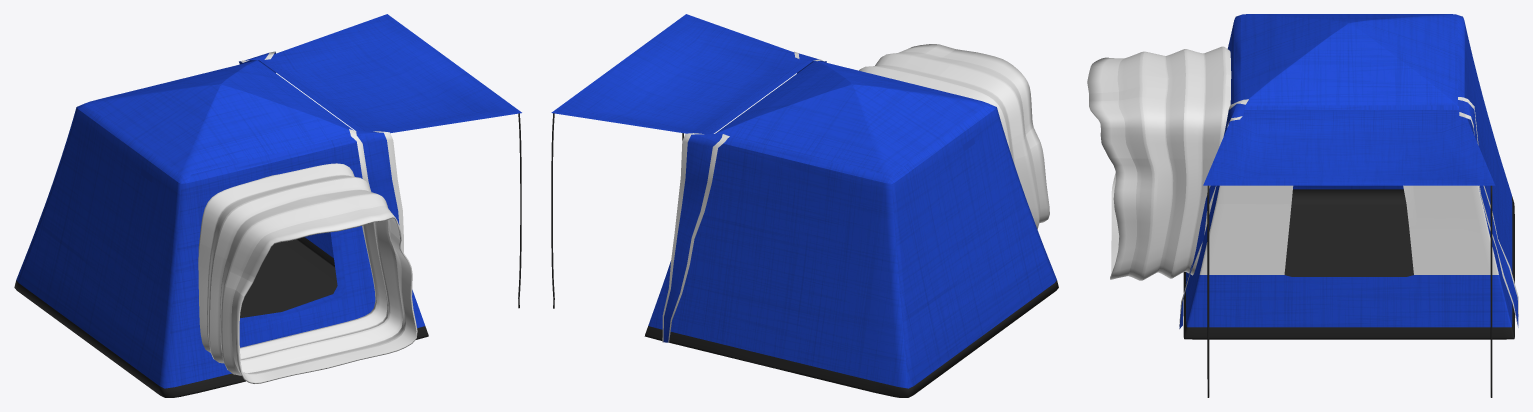
File: napier_suv_tent.glb
3 renders of one model, left to right at view 1: azimuth 30°, elevation 25°; view 2: azimuth 150°, elevation 25°; view 3: azimuth 270°, elevation 25°, orthographic. The views are drawn at different scales.
Parts seen in each view (by area): view 1: napier suv tent.013, napier suv tent.001, napier suv tent, napier suv tent.012, napier suv tent.008, napier suv tent.010, napier suv tent.005; view 2: napier suv tent.013, napier suv tent, napier suv tent.001, napier suv tent.012, napier suv tent.009, napier suv tent.006, napier suv tent.007; view 3: napier suv tent.013, napier suv tent.001, napier suv tent, napier suv tent.012, napier suv tent.011, napier suv tent.009, napier suv tent.008, napier suv tent.002, napier suv tent.003.
Part boxes in pixels (bbox=[...]): napier suv tent.013: bbox=[16, 60, 425, 388]; napier suv tent.001: bbox=[198, 163, 417, 383]; napier suv tent: bbox=[260, 14, 521, 133]; napier suv tent.012: bbox=[14, 237, 428, 397]; napier suv tent.008: bbox=[349, 130, 399, 224]; napier suv tent.010: bbox=[239, 231, 345, 322]; napier suv tent.005: bbox=[373, 131, 403, 252]; napier suv tent.013: bbox=[648, 61, 1056, 388]; napier suv tent: bbox=[551, 14, 812, 134]; napier suv tent.001: bbox=[859, 44, 1049, 229]; napier suv tent.012: bbox=[644, 280, 1058, 397]; napier suv tent.009: bbox=[663, 134, 727, 342]; napier suv tent.006: bbox=[662, 133, 703, 342]; napier suv tent.007: bbox=[668, 134, 729, 342]; napier suv tent.013: bbox=[1186, 14, 1512, 327]; napier suv tent.001: bbox=[1087, 46, 1231, 280]; napier suv tent: bbox=[1203, 110, 1495, 185]; napier suv tent.012: bbox=[1183, 189, 1514, 339]; napier suv tent.011: bbox=[1199, 185, 1498, 274]; napier suv tent.009: bbox=[1458, 100, 1518, 327]; napier suv tent.008: bbox=[1179, 100, 1248, 328]; napier suv tent.002: bbox=[1490, 185, 1492, 397]; napier suv tent.003: bbox=[1207, 185, 1209, 397].
Bounding box in the file's own units: 19.43 × 11.72 × 18.25.
4 materials, 1 textured.
